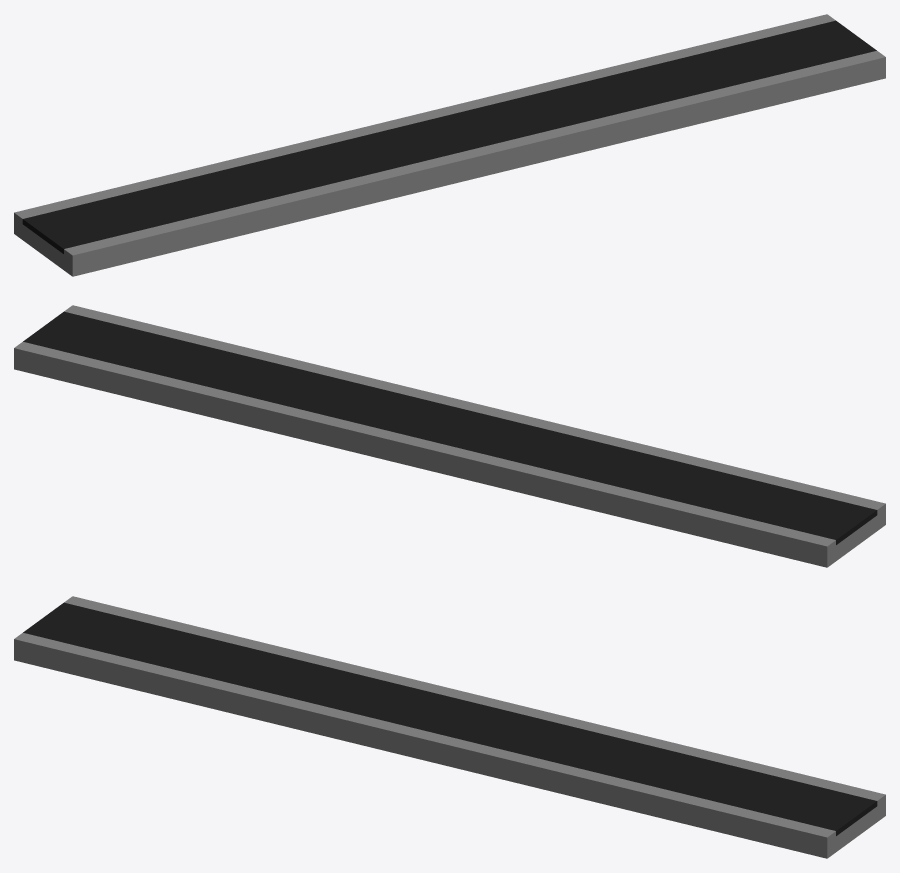
Rendered from 4LaneRoadDivider.obj.
The picture shows the model from 3 angles, top to bottom: view 1: azimuth 30°, elevation 25°; view 2: azimuth 150°, elevation 25°; view 3: azimuth 330°, elevation 25°; orthographic projection.
Size of the model in its own units: 16 by 0.4 by 2.
1 material, 1 textured.
